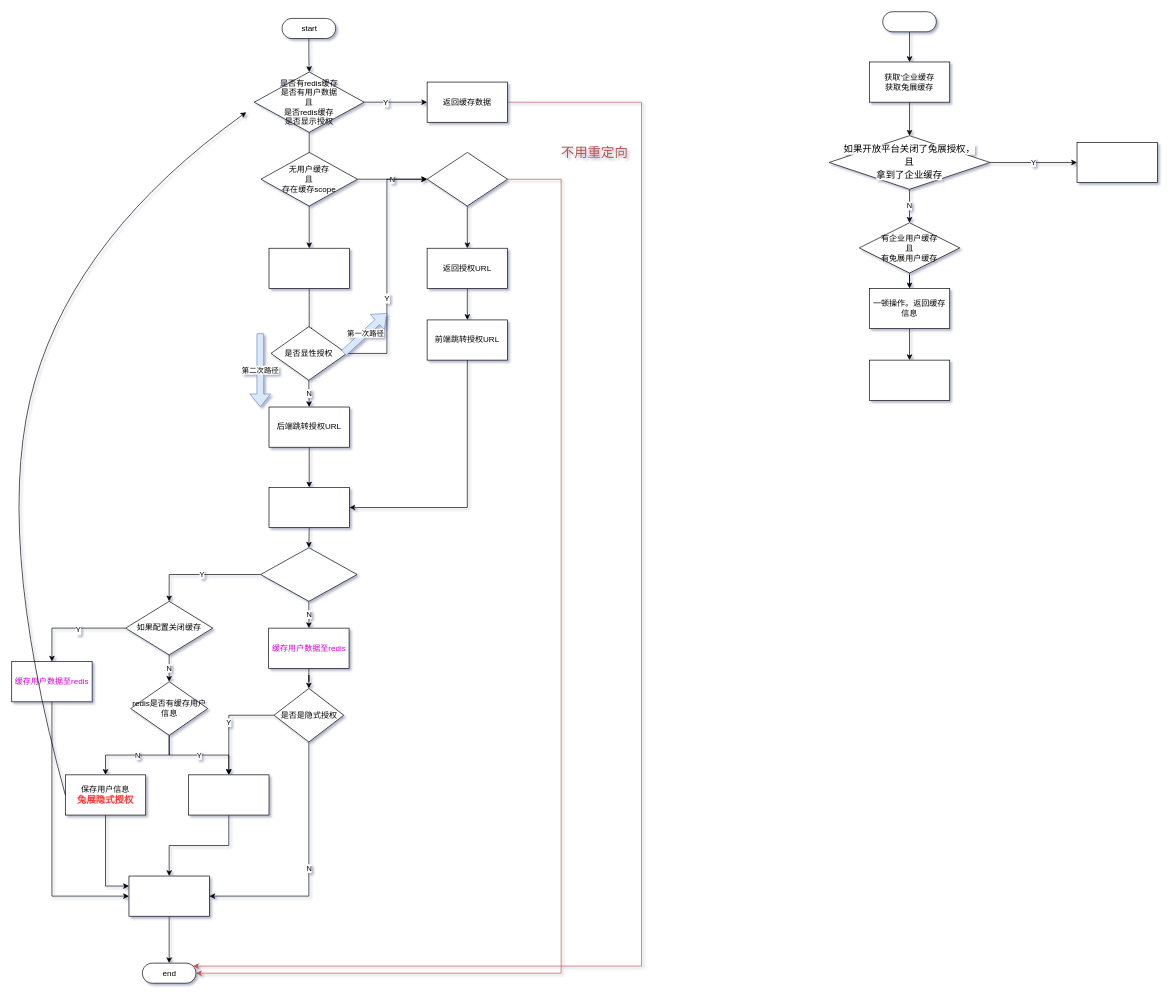
This 1173x999 diagram has some shape labels left out. The shapes that lost their labels are listed below. From the top down, each one's centre as x and y in pixels, then its label:
At point 909,21: "两次授权start".
At point 467,179: "如果有授权URL".
At point 1116,162: "直接返回".
At point 308,268: "向后端获取授权URL".
At point 909,379: "兔展两次授权".
At point 308,507: "向后端获取用户信息 获取redis缓存".
At point 308,574: "如果是企业 且 已获取到用户信息".
At point 228,794: "session . rabbitHidden = true".
At point 168,895: "重定向初始页面".
